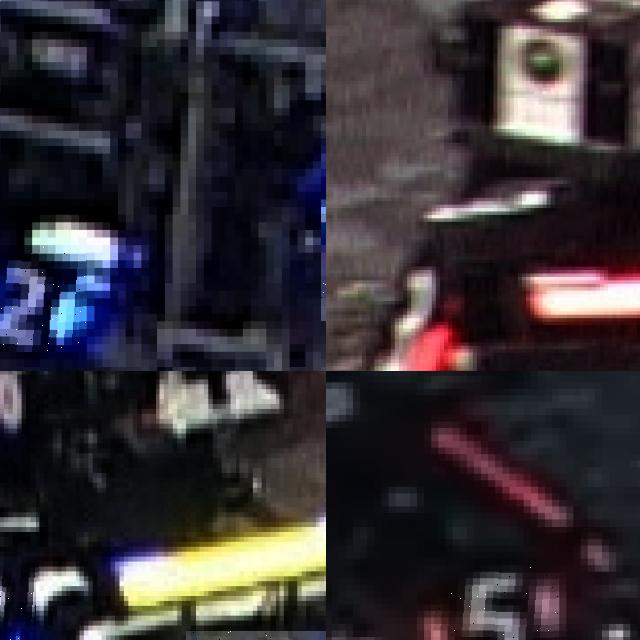B2: (0, 245, 86, 351)
B4: (0, 556, 39, 640)
R5: (431, 565, 559, 640)
